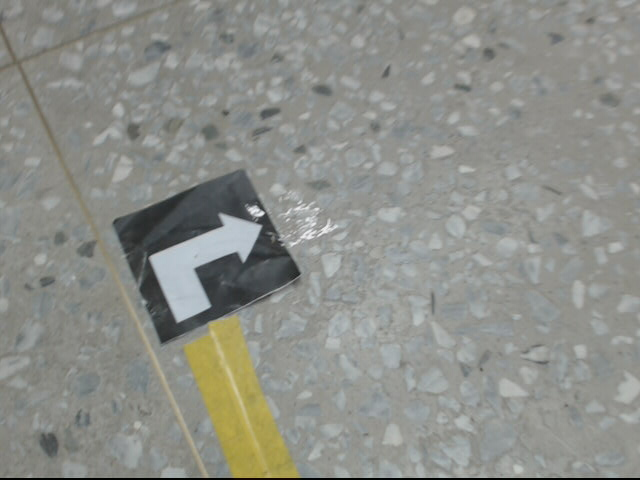right: (114, 167, 304, 342)
